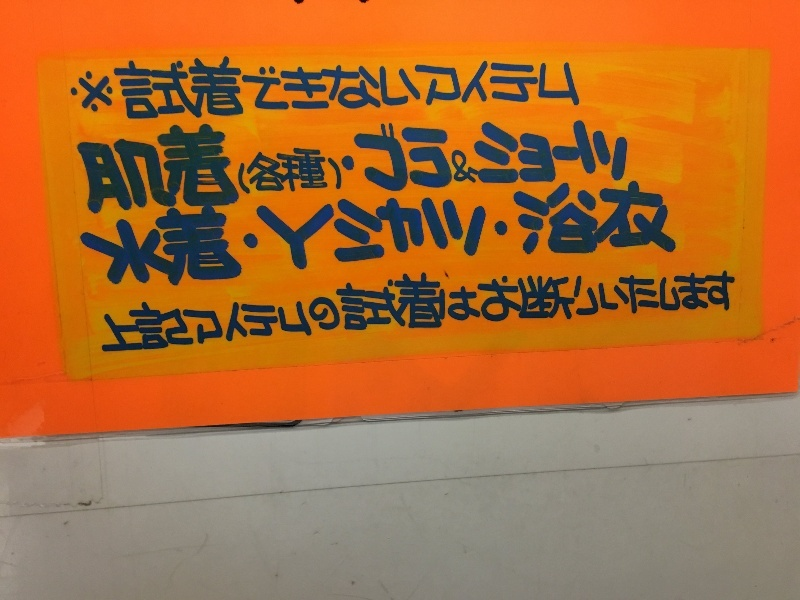text: (81, 179, 96, 293), (97, 179, 112, 293), (113, 179, 128, 293), (129, 179, 144, 293), (145, 179, 160, 293), (161, 179, 176, 293), (177, 179, 192, 293), (193, 179, 208, 293), (209, 179, 224, 293), (225, 179, 240, 293), (241, 179, 256, 293), (257, 179, 272, 293), (273, 179, 288, 293), (289, 179, 304, 293), (305, 179, 320, 293), (321, 179, 336, 293), (337, 179, 352, 293), (353, 179, 368, 293), (369, 179, 384, 293), (385, 179, 400, 293), (401, 179, 416, 293), (417, 179, 432, 293), (433, 179, 448, 293), (449, 179, 464, 293), (465, 179, 480, 293), (481, 179, 496, 293), (497, 179, 512, 293), (513, 179, 528, 293), (529, 179, 544, 293), (545, 179, 560, 293), (561, 179, 576, 293), (577, 179, 592, 293), (593, 179, 608, 293), (609, 179, 624, 293), (625, 179, 640, 293), (641, 179, 656, 293), (657, 179, 672, 293), (81, 120, 96, 216), (97, 120, 112, 216), (113, 120, 128, 216), (129, 120, 144, 216), (145, 120, 160, 216), (161, 120, 176, 216), (177, 120, 192, 216), (193, 120, 208, 216), (209, 120, 224, 216), (225, 120, 240, 216), (113, 262, 128, 356), (129, 262, 144, 356), (145, 262, 160, 356), (161, 262, 176, 356), (177, 262, 192, 356), (193, 262, 208, 356), (209, 262, 224, 356), (225, 262, 240, 356), (241, 262, 256, 356), (257, 262, 272, 356), (273, 262, 288, 356), (289, 262, 304, 356), (305, 262, 320, 356), (321, 262, 336, 356), (337, 262, 352, 356), (353, 262, 368, 356), (369, 262, 384, 356), (385, 262, 400, 356), (401, 262, 416, 356), (417, 262, 432, 356), (433, 262, 448, 356), (449, 262, 464, 356), (465, 262, 480, 356), (481, 262, 496, 356), (497, 262, 512, 356), (513, 262, 528, 356), (529, 262, 544, 356), (545, 262, 560, 356), (561, 262, 576, 356), (577, 262, 592, 356), (593, 262, 608, 356), (609, 262, 624, 356), (625, 262, 640, 356), (641, 262, 656, 356), (657, 262, 672, 356), (673, 262, 688, 356), (689, 262, 704, 356), (705, 262, 720, 356), (721, 262, 736, 356), (353, 115, 368, 191), (369, 115, 384, 191), (385, 115, 400, 191), (401, 115, 416, 191), (417, 115, 432, 191), (433, 115, 448, 191), (449, 115, 464, 191), (465, 115, 480, 191), (481, 115, 496, 191), (497, 115, 512, 191), (513, 115, 528, 191), (529, 115, 544, 191), (545, 115, 560, 191), (561, 115, 576, 191), (577, 115, 592, 191), (593, 115, 608, 191), (609, 115, 624, 191), (673, 179, 683, 293), (113, 53, 128, 124), (129, 53, 144, 124), (145, 53, 160, 124), (161, 53, 176, 124), (177, 53, 192, 124), (193, 53, 208, 124), (209, 53, 224, 124), (225, 53, 240, 124), (241, 53, 256, 124), (257, 53, 272, 124), (273, 53, 288, 124), (289, 53, 304, 124), (305, 53, 320, 124), (321, 53, 336, 124), (337, 53, 352, 124), (353, 53, 368, 124), (369, 53, 384, 124), (385, 53, 400, 124), (401, 53, 416, 124), (417, 53, 432, 124), (433, 53, 448, 124), (449, 53, 464, 124), (465, 53, 480, 124), (481, 53, 496, 124), (497, 53, 512, 124), (513, 53, 528, 124), (529, 53, 544, 124), (545, 53, 560, 124), (561, 53, 576, 124), (102, 262, 112, 356), (241, 143, 256, 198), (257, 143, 272, 198), (273, 143, 288, 198), (289, 143, 304, 198), (305, 143, 320, 198), (321, 143, 336, 198), (337, 143, 352, 198), (577, 53, 586, 124), (625, 115, 633, 191), (74, 120, 80, 216), (737, 262, 742, 356), (235, 143, 240, 198), (241, 120, 243, 216), (353, 143, 356, 198), (79, 179, 80, 293)
